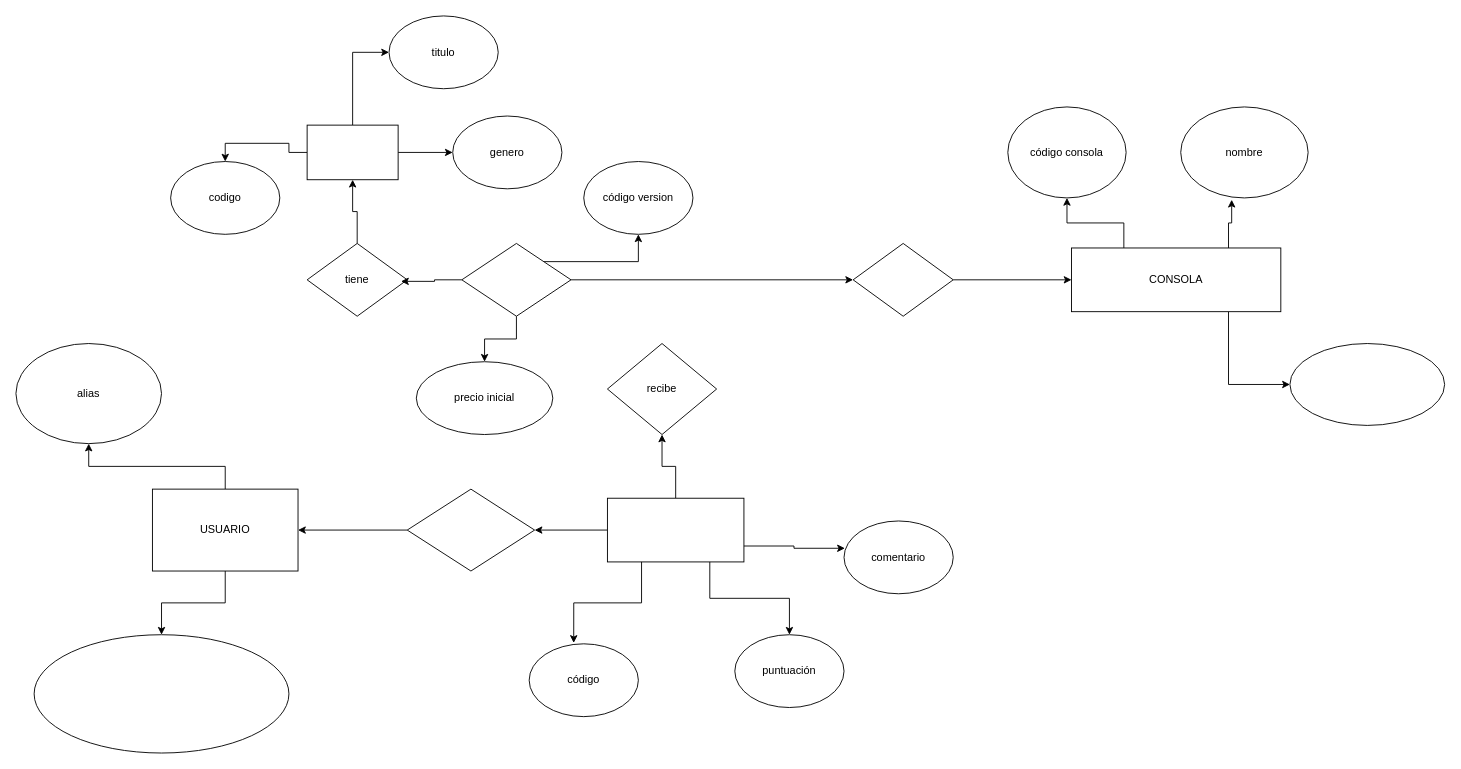
This 1461x769 diagram has some shape labels left out. Here are the shapes that lost their labels. From the top down, the centre of each, then its label:
At [352,152]: "JUEGO".
At [516,279]: "version".
At [902,279]: "dispone de".
At [1367,384]: "año_lanzamiento".
At [470,529]: "escribe".
At [675,529]: "RESEÑA".
At [161,693]: "codigo usuario".
